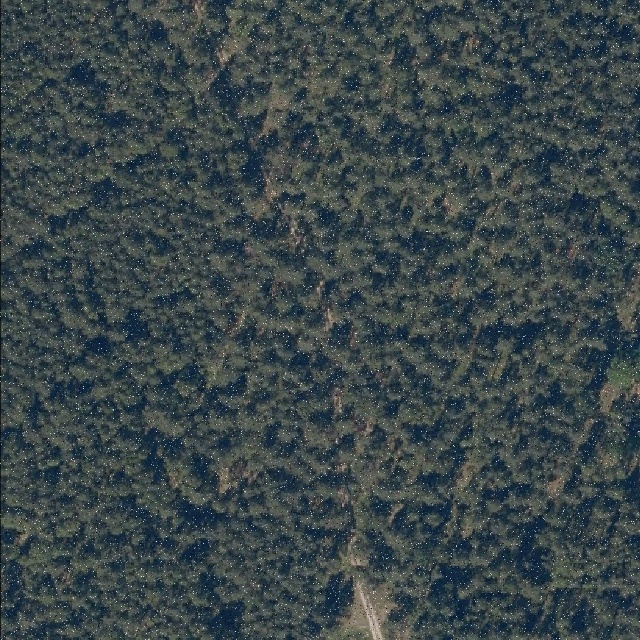vegetation: (202, 0, 639, 640), (3, 3, 352, 640)
